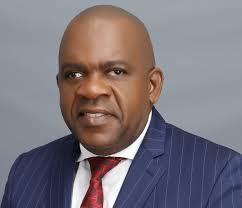person: (51, 0, 173, 152)
